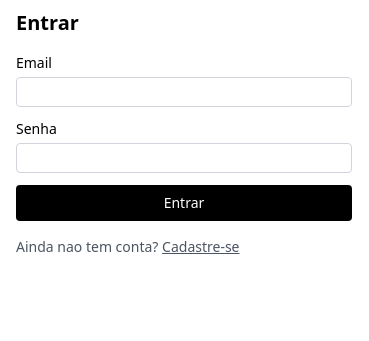
it: LoginPage › exibe mensagem de erro quando as credenciais sao invalidas
Type "cliente@example.com" into the field labelled "Email".
click(184, 92); type("cliente@example.com")  # box x1=16 y1=77 x2=352 y2=107
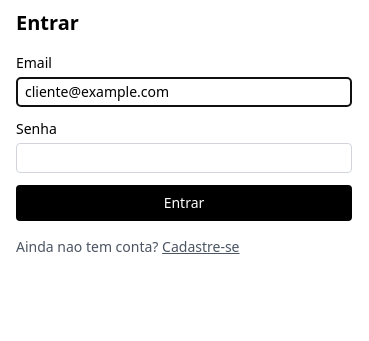
Type "senha-errada" into the password field labelled "Senha".
click(184, 158); type("senha-errada")  # box x1=16 y1=143 x2=352 y2=173
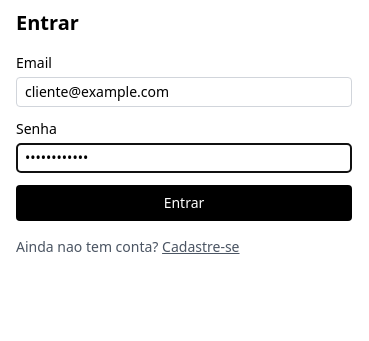
Click the button "Entrar".
click(184, 203)  # box x1=16 y1=185 x2=352 y2=221
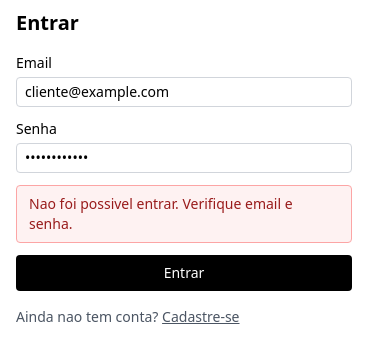
expect the message reads "Nao foi possivel entrar. Verifique email e senha.": met, box x1=29 y1=194 x2=293 y2=233
